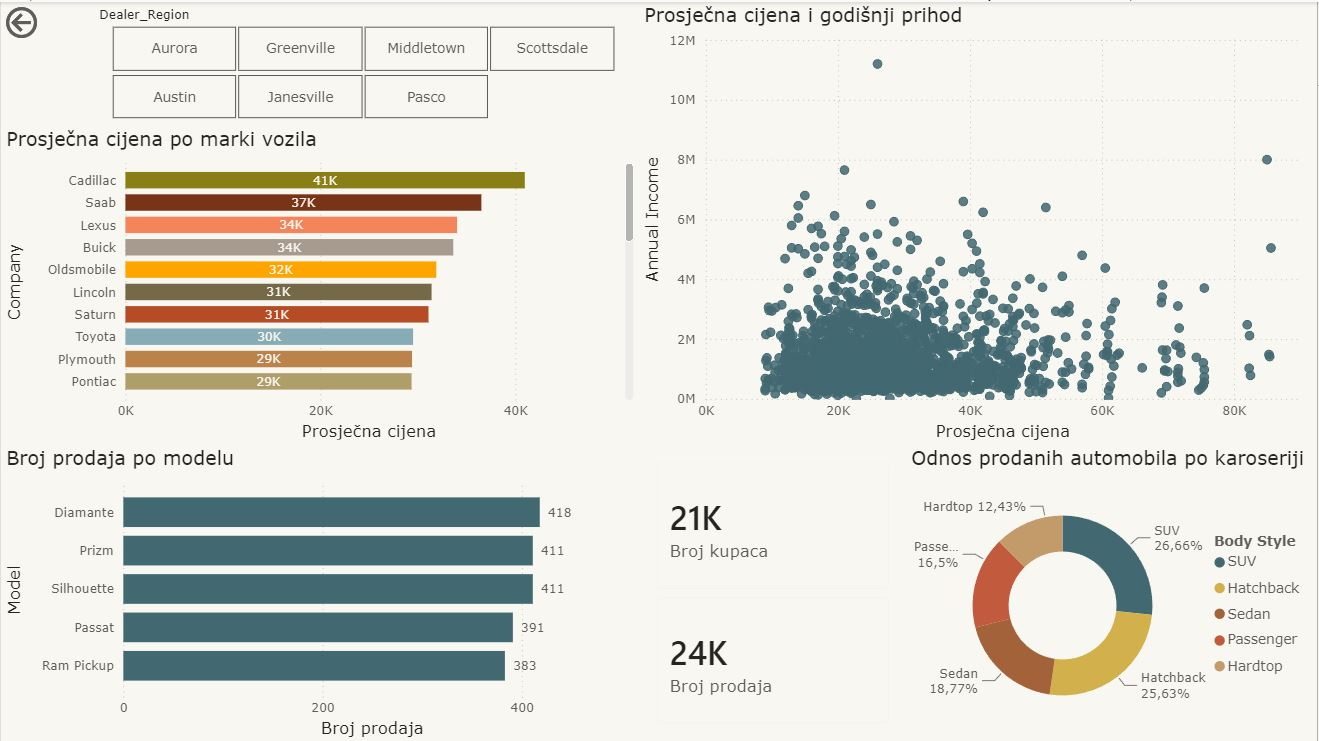

What the dashboard file says about the page in this screenshot:
{"tool":"powerbi","page":{"name":"Cjenovna analiza","canvas":[1280,720],"ordinal":5},"visuals":[{"type":"actionButton","box":[0,0,100,40],"z":0},{"type":"barChart","title":"Prosječna cijena po marki vozila","fields":{"Category":["dim_car.Company"],"Y":["fact_sale.Prosječna cijena"],"Series":["dim_car.Company"]},"box":[0,120.5,620.1,310.5],"z":1000},{"type":"slicer","fields":{"Values":["dim_dealer.Dealer_Region"]},"box":[82.5,0,537.6,120.5],"z":2000},{"type":"scatterChart","title":"Prosječna cijena i godišnji prihod","fields":{"X":["fact_sale.Prosječna cijena"],"Y":["dim_customer.Annual Income"]},"box":[620.1,0,659.9,431],"z":3000},{"type":"actionButton","box":[0,0,100,40],"z":4000},{"type":"donutChart","title":"Odnos prodanih automobila po karoseriji","fields":{"Category":["dim_car.Body Style"],"Y":["CountNonNull(fact_sale.F_car_id)"]},"box":[880.5,431,399.5,289.2],"z":5000},{"type":"barChart","title":"Broj prodaja po modelu","fields":{"Category":["dim_car.Model"],"Y":["fact_sale.Broj prodaja"]},"box":[0,430.5,620.5,289.1],"z":6000},{"type":"cardVisual","fields":{"Data":["fact_sale.Broj kupaca","fact_sale.Broj prodaja"]},"box":[620.1,431,260.4,289.2],"z":7000}]}

Visuals, with their boxes in screenshot pixels (x1, y1, x2, y2), scaled from the page's 1280x720 canvas onto the 1319x741 screenshot:
actionButton: (0, 0, 103, 41)
"Prosječna cijena po marki vozila" barChart: (0, 124, 639, 444)
slicer - dim_dealer.Dealer_Region: (85, 0, 639, 124)
"Prosječna cijena i godišnji prihod" scatterChart: (639, 0, 1318, 444)
actionButton: (0, 0, 103, 41)
"Odnos prodanih automobila po karoseriji" donutChart: (907, 444, 1318, 740)
"Broj prodaja po modelu" barChart: (0, 443, 639, 740)
cardVisual - fact_sale.Broj kupaca x fact_sale.Broj prodaja: (639, 444, 907, 740)
